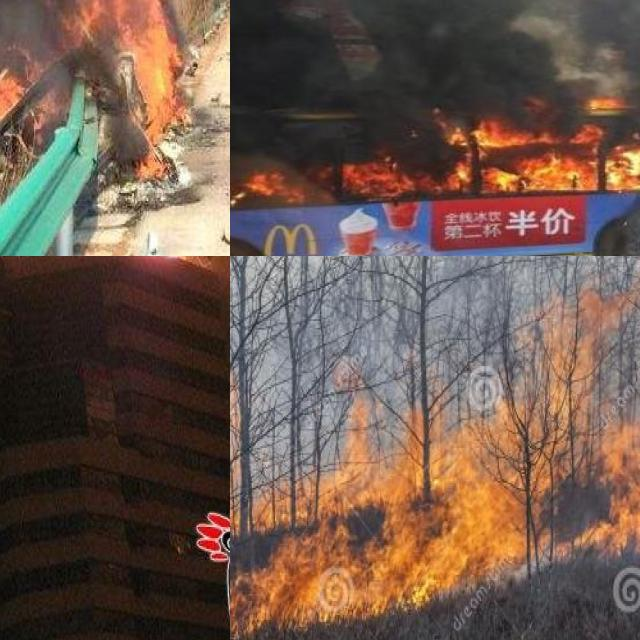fire: (230, 307, 640, 632), (230, 94, 640, 198), (0, 0, 195, 180)
smoke: (230, 0, 640, 176)
